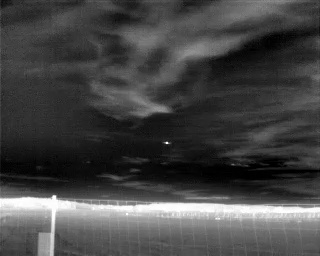AIRPLANE: (163, 139, 171, 146)
